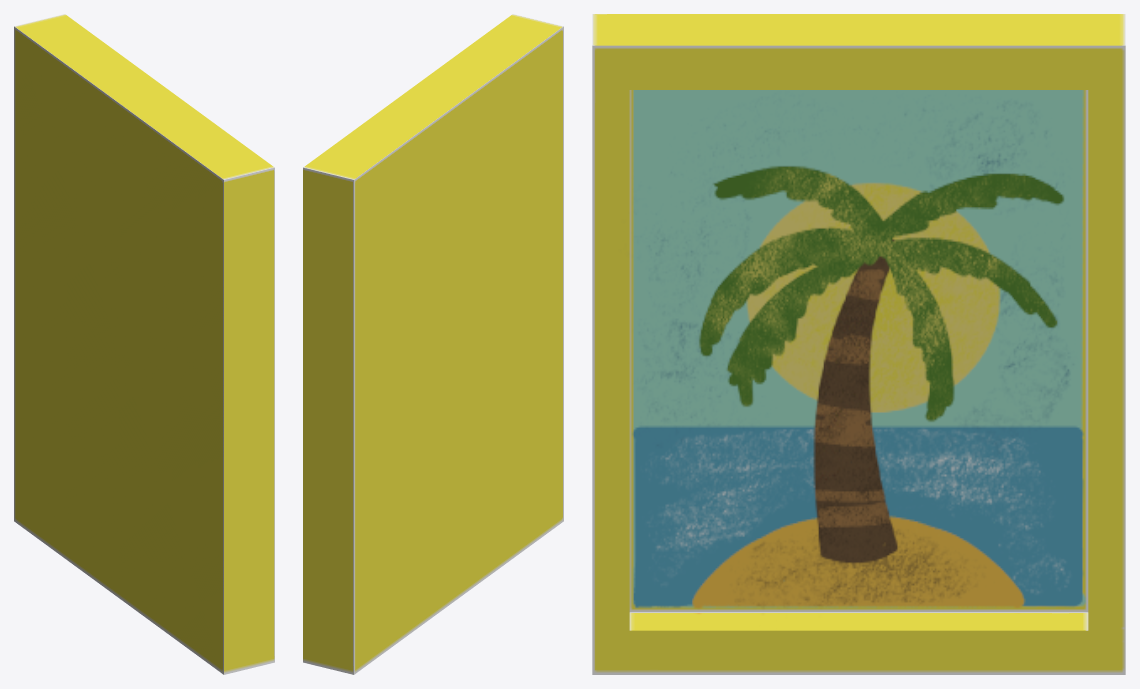
File: cuadro_color.fbx
3 renders of one model, left to right at view 1: azimuth 30°, elevation 25°; view 2: azimuth 150°, elevation 25°; view 3: azimuth 270°, elevation 25°, orthographic. The views are drawn at different scales.
Parts seen in each view (by area): view 1: Cube; view 2: Cube; view 3: Cube.
Part boxes in pixels (x1,y1,x2,y2): Cube: (14, 14, 274, 674); Cube: (303, 14, 563, 674); Cube: (592, 14, 1125, 674).
Bounding box in the file's own units: 8.93 × 82.97 × 63.76.
Materials: 1 (1 with a texture image).
